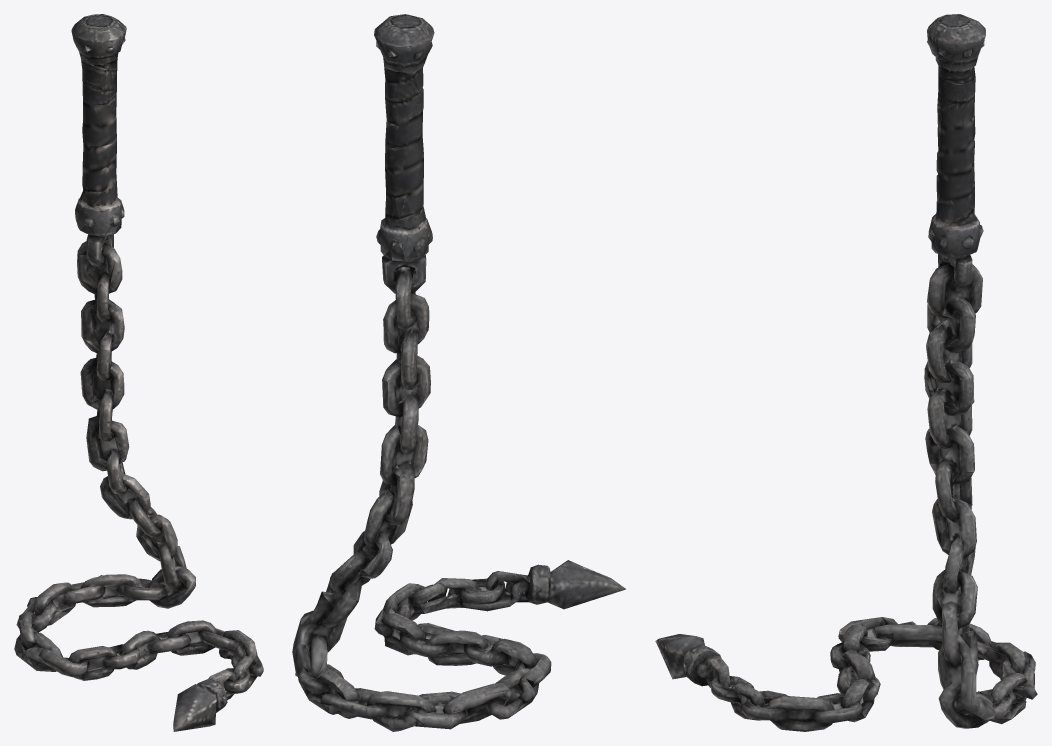
File: whip-chain.glb
The picture shows the model from 3 angles, left to right: view 1: azimuth 30°, elevation 25°; view 2: azimuth 150°, elevation 25°; view 3: azimuth 270°, elevation 25°; orthographic projection. The views are drawn at different scales.
Visible parts, largest first — view 1: mesh_0; view 2: mesh_0; view 3: mesh_0.
Part boxes in pixels (left/top/right/bottom): mesh_0: left=14, top=14, right=263, bottom=731; mesh_0: left=292, top=14, right=625, bottom=731; mesh_0: left=655, top=14, right=1037, bottom=731.
Size of the model in its own units: 0.6424 by 2 by 1.04.
Materials: 1 (1 with a texture image).
